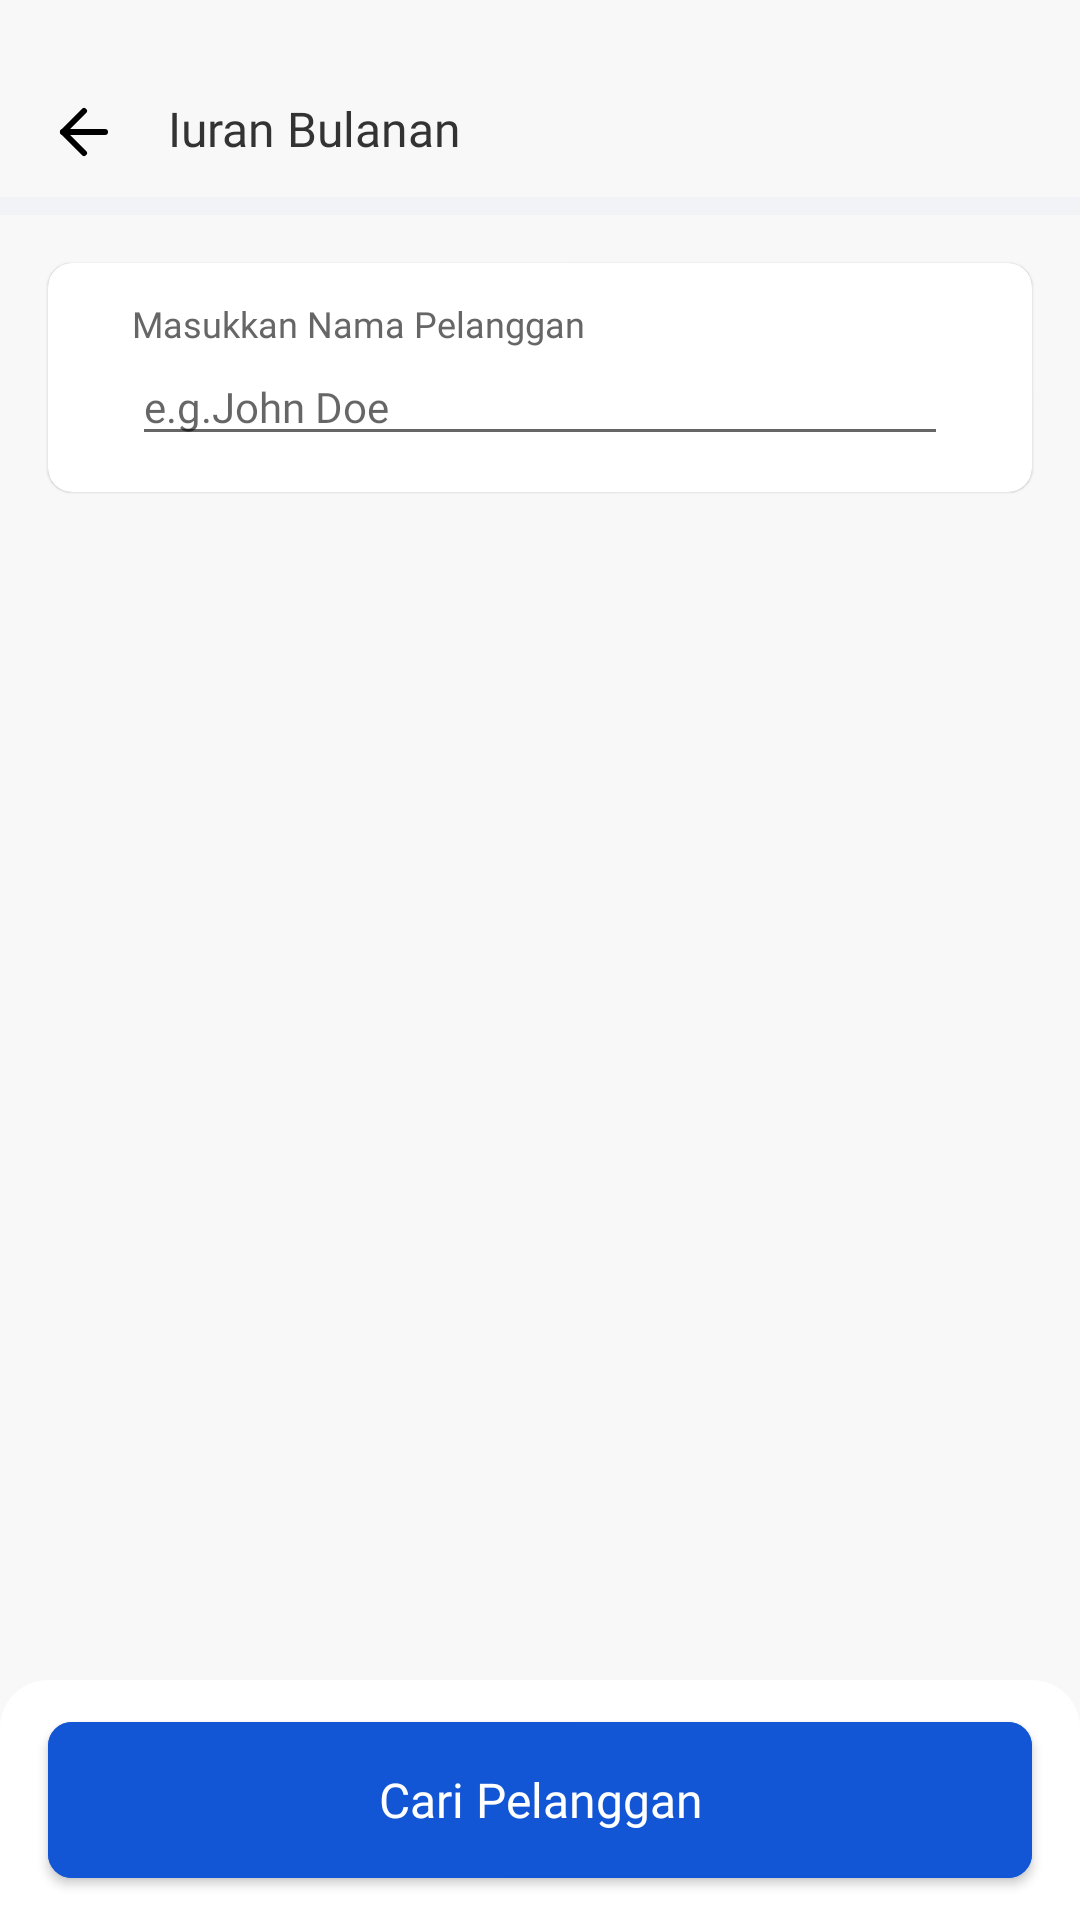

Icon click points for this 1080*1920 phone screenshot, format [x,y]:
back: [84,132]
